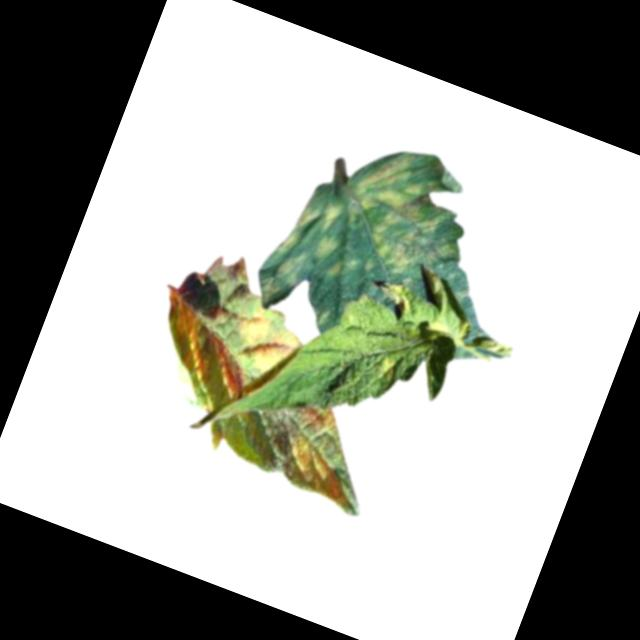Leaf_Mold: (329, 137, 481, 294), (140, 289, 264, 408), (254, 187, 346, 316), (270, 396, 376, 507), (226, 302, 310, 386), (370, 350, 401, 384)
